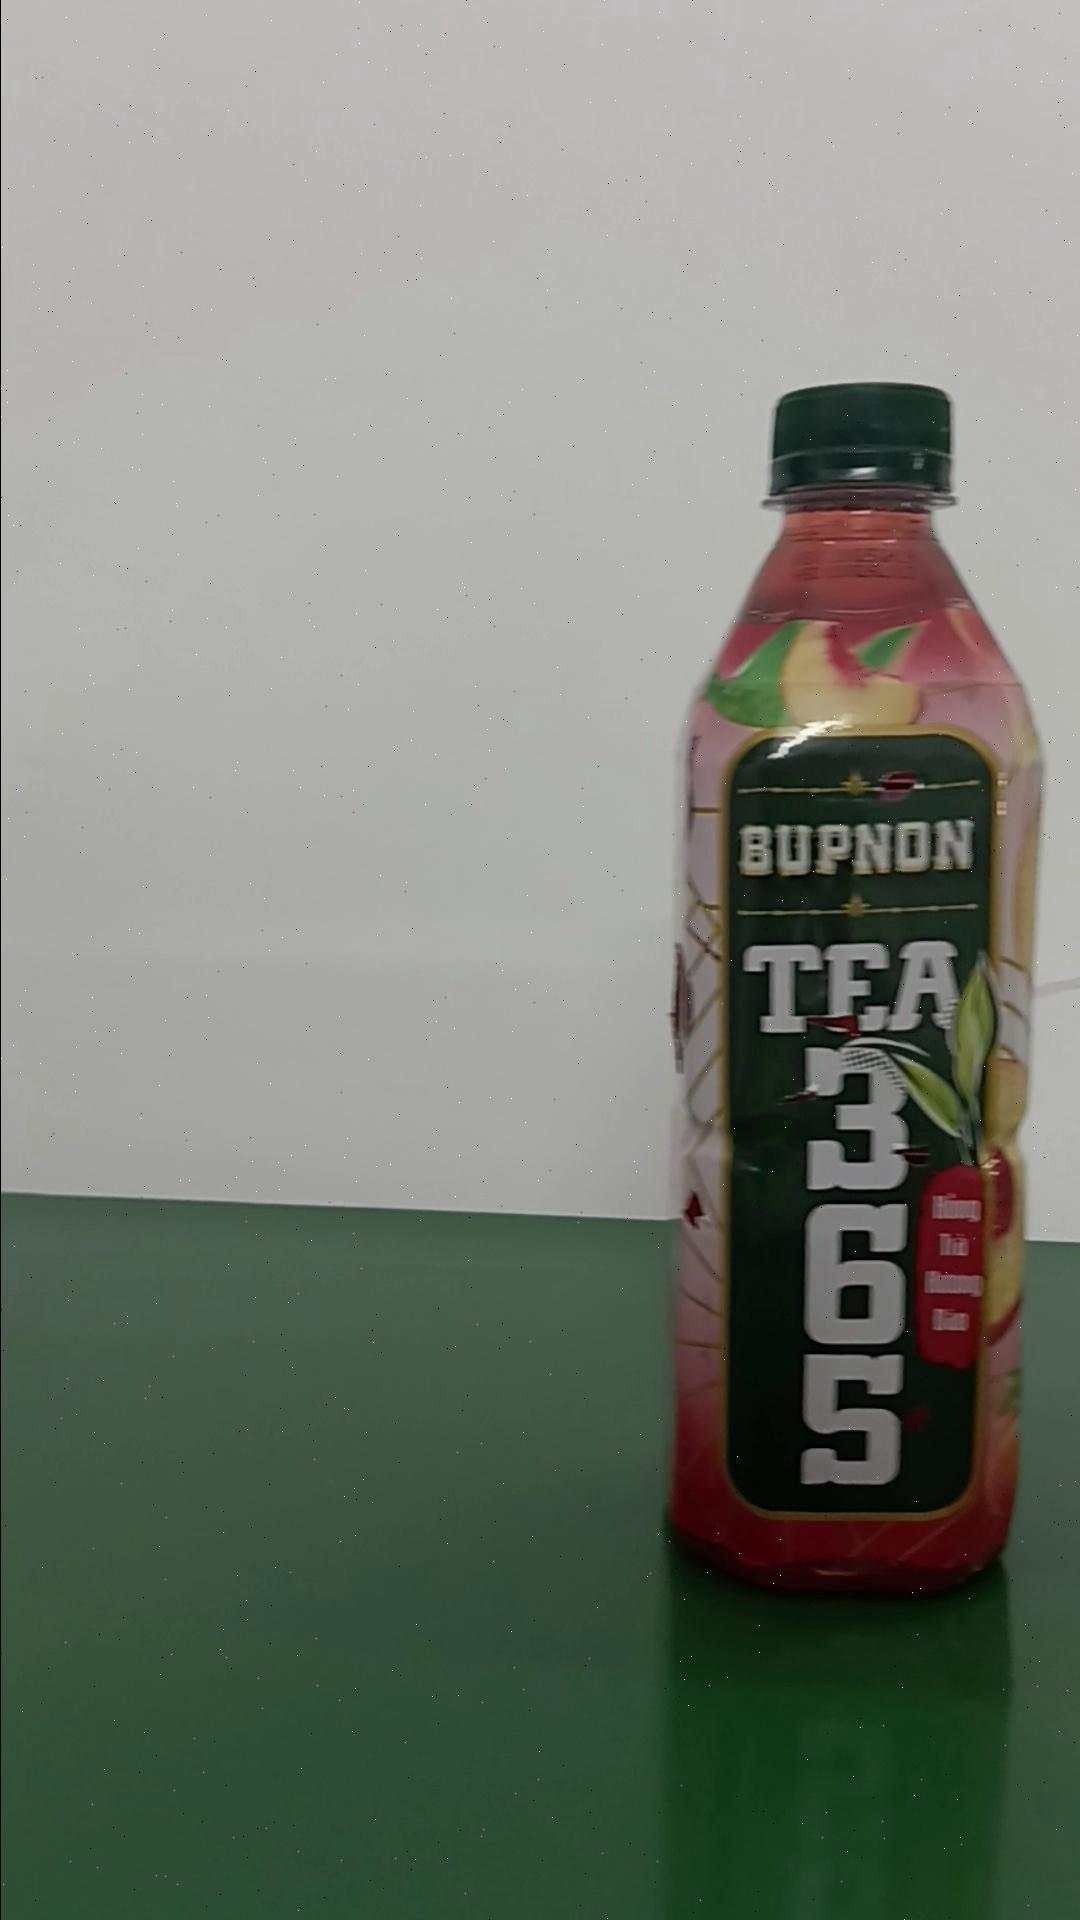loi rach va lap chai: (665, 368, 1047, 1610)
